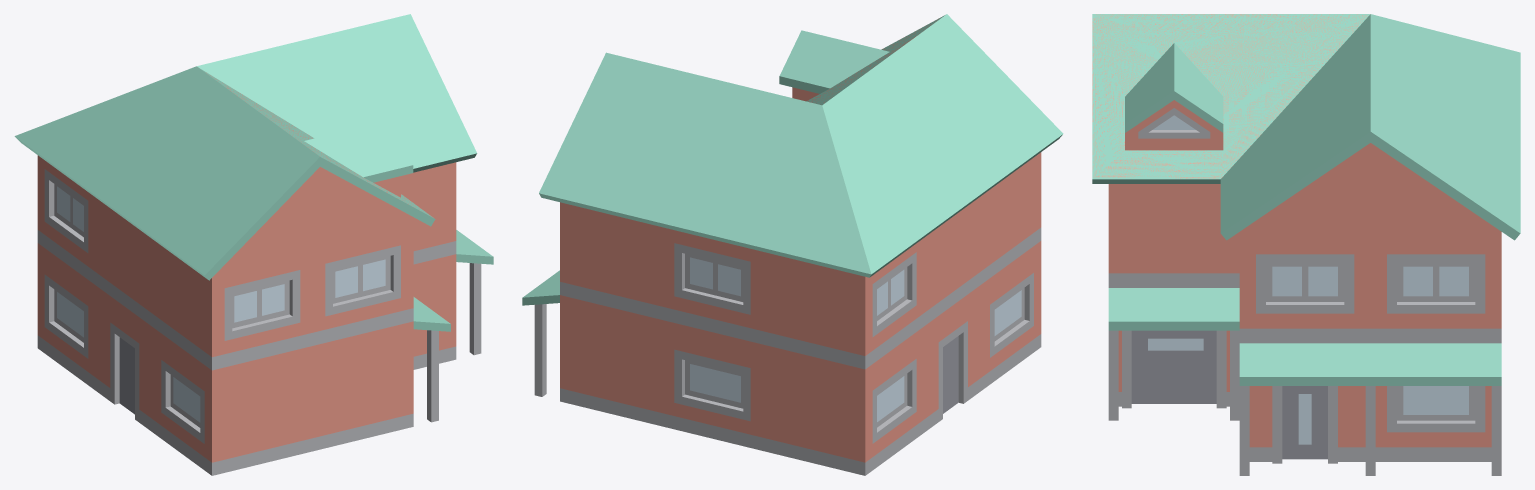
File: house2.fbx
3 renders of one model, left to right at view 1: azimuth 30°, elevation 25°; view 2: azimuth 150°, elevation 25°; view 3: azimuth 270°, elevation 25°, orthographic. The views are drawn at different scales.
Parts seen in each view (by area): view 1: house_type02; view 2: house_type02; view 3: house_type02.
Boxes of the visible parts, left/top/right/bottom form: house_type02: left=14, top=14, right=493, bottom=475; house_type02: left=522, top=14, right=1063, bottom=475; house_type02: left=1092, top=14, right=1520, bottom=475.
Bounding box in the file's own units: 1406 × 1138 × 1308.
